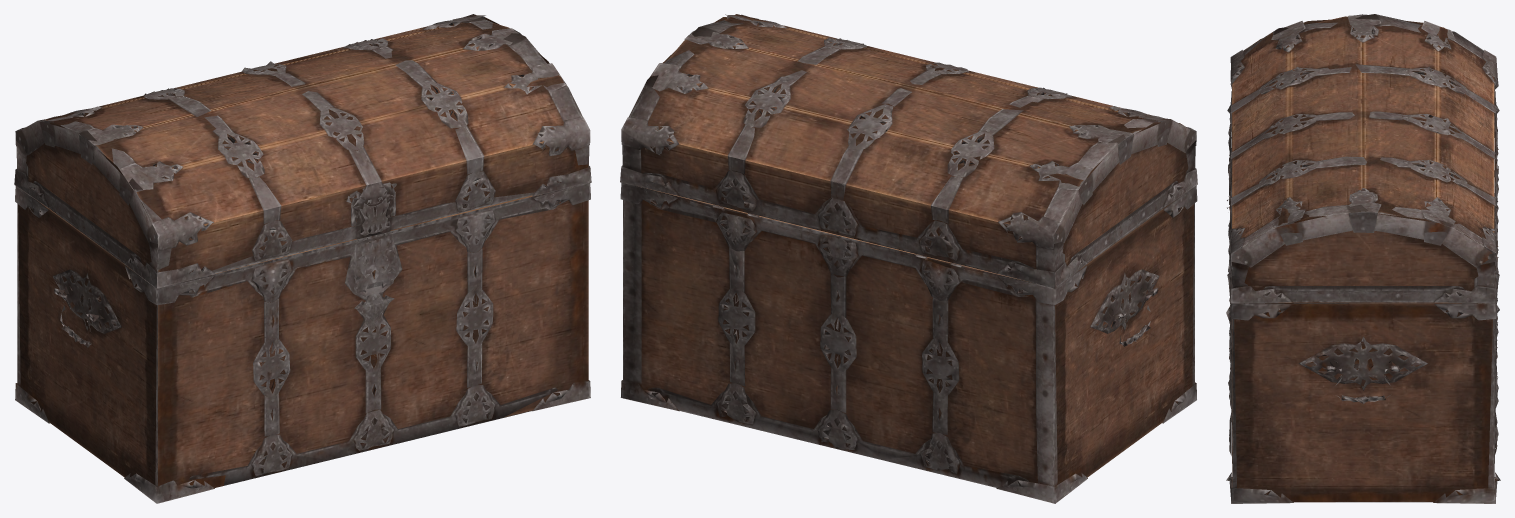
The model's file is treasure_chest.glb.
3 views of the same model, side by side, from view 1: azimuth 30°, elevation 25°; view 2: azimuth 150°, elevation 25°; view 3: azimuth 270°, elevation 25° (orthographic). The views are drawn at different scales.
Visible parts, largest first — view 1: treasure_chest_bottom, treasure_chest_lid, treasure_chest_lock; view 2: treasure_chest_bottom, treasure_chest_lid; view 3: treasure_chest_lid, treasure_chest_bottom, treasure_chest_handle_right.
Boxes of the visible parts, x1,y1,x2,y2 form: treasure_chest_bottom: (15,183,590,503); treasure_chest_lid: (14,14,591,288); treasure_chest_lock: (353,234,395,322); treasure_chest_bottom: (620,183,1197,503); treasure_chest_lid: (620,14,1197,288); treasure_chest_lid: (1227,14,1499,303); treasure_chest_bottom: (1226,129,1500,503); treasure_chest_handle_right: (1323,367,1402,403).
Bounding box in the file's own units: 0.9484 × 0.6241 × 0.5261.
1 material, 1 textured.
